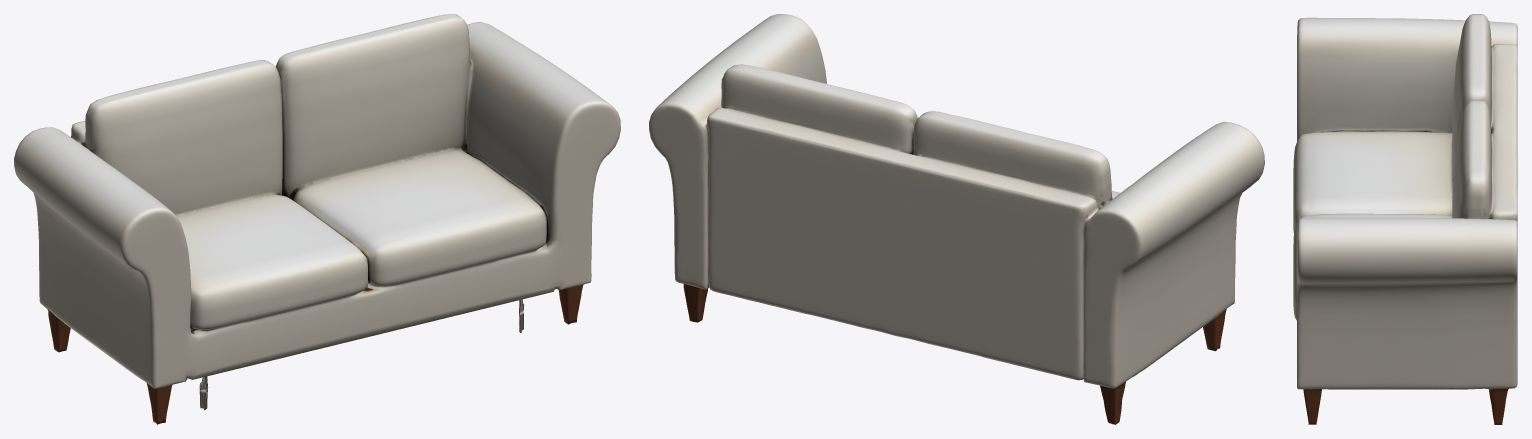
The model's file is sofa-4.glb.
3 renders of one model, left to right at view 1: azimuth 30°, elevation 25°; view 2: azimuth 150°, elevation 25°; view 3: azimuth 270°, elevation 25°, orthographic. The views are drawn at different scales.
Parts seen in each view (by area): view 1: model; view 2: model; view 3: model.
Boxes of the visible parts, x1,y1,x2,y2 form: model: [14, 14, 620, 424]; model: [649, 14, 1264, 424]; model: [1293, 14, 1517, 424].
Size of the model in its own units: 1.9 by 0.9144 by 0.7886.
1 material, 1 textured.
